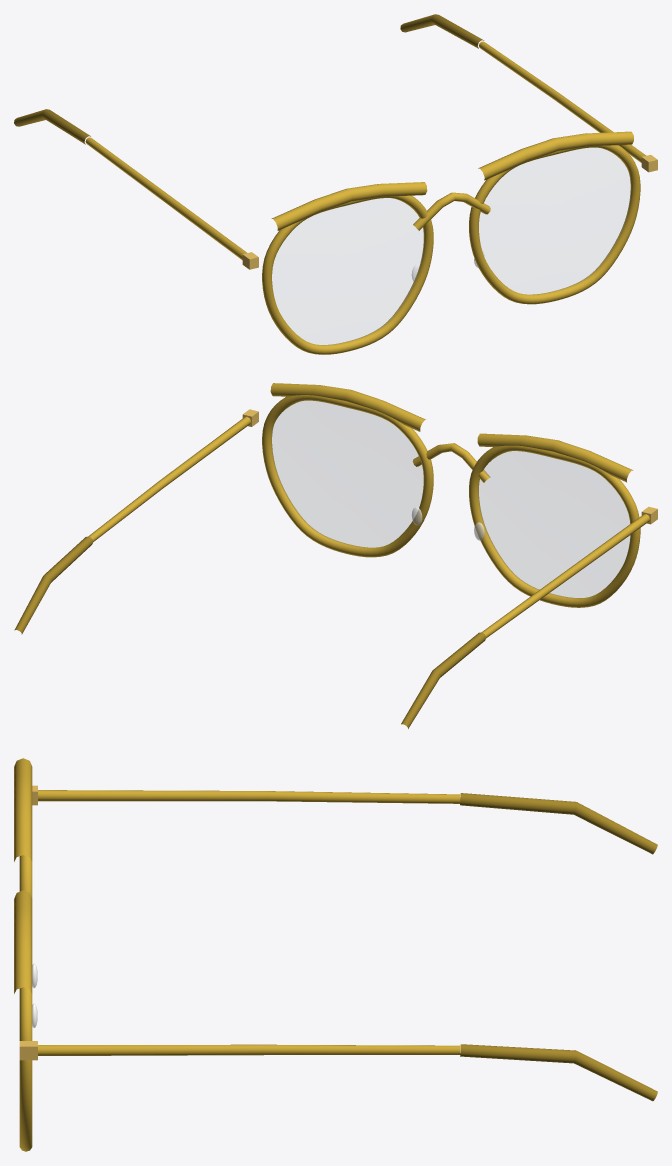
3 renders of one model, top to bottom at view 1: azimuth 30°, elevation 25°; view 2: azimuth 150°, elevation 25°; view 3: azimuth 270°, elevation 25°, orthographic. The views are drawn at different scales.
Parts seen in each view (by area): view 1: Lens_L, Lens_R, Rim_L, Rim_R, BrowBar_L, BrowBar_R, Temple_L, Temple_R, TempleTip_R, TempleTip_L, Bridge; view 2: Lens_R, Lens_L, Rim_R, Rim_L, BrowBar_L, BrowBar_R, Temple_L, Temple_R, TempleTip_L, TempleTip_R, Bridge; view 3: Temple_L, Temple_R, TempleTip_L, TempleTip_R, Rim_R, BrowBar_R, BrowBar_L.
Part boxes in pixels (left/top/right/bottom): Lens_L: left=272, top=198, right=423, bottom=344; Lens_R: left=479, top=148, right=630, bottom=294; Rim_L: left=262, top=195, right=433, bottom=354; Rim_R: left=469, top=145, right=640, bottom=304; BrowBar_L: left=271, top=182, right=427, bottom=230; BrowBar_R: left=478, top=131, right=633, bottom=180; Temple_L: left=85, top=137, right=246, bottom=260; Temple_R: left=479, top=41, right=646, bottom=162; TempleTip_R: left=400, top=14, right=484, bottom=48; TempleTip_L: left=14, top=109, right=90, bottom=144; Bridge: left=413, top=192, right=490, bottom=230; Lens_R: left=272, top=401, right=423, bottom=547; Lens_L: left=478, top=451, right=629, bottom=597; Rim_R: left=262, top=395, right=433, bottom=557; Rim_L: left=469, top=445, right=640, bottom=607; BrowBar_L: left=477, top=433, right=633, bottom=482; BrowBar_R: left=270, top=383, right=425, bottom=431; Temple_L: left=482, top=514, right=649, bottom=638; Temple_R: left=89, top=416, right=250, bottom=541; TempleTip_L: left=401, top=632, right=486, bottom=728; TempleTip_R: left=14, top=536, right=93, bottom=634; Bridge: left=412, top=443, right=490, bottom=482; Temple_L: left=38, top=790, right=460, bottom=803; Temple_R: left=38, top=1044, right=460, bottom=1055; TempleTip_L: left=460, top=793, right=657, bottom=854; TempleTip_R: left=460, top=1044, right=657, bottom=1101; Rim_R: left=19, top=987, right=32, bottom=1151; BrowBar_R: left=14, top=890, right=32, bottom=993; BrowBar_L: left=14, top=758, right=32, bottom=861.
Size of the model in its own units: 2.68 by 1.02 by 2.8.
